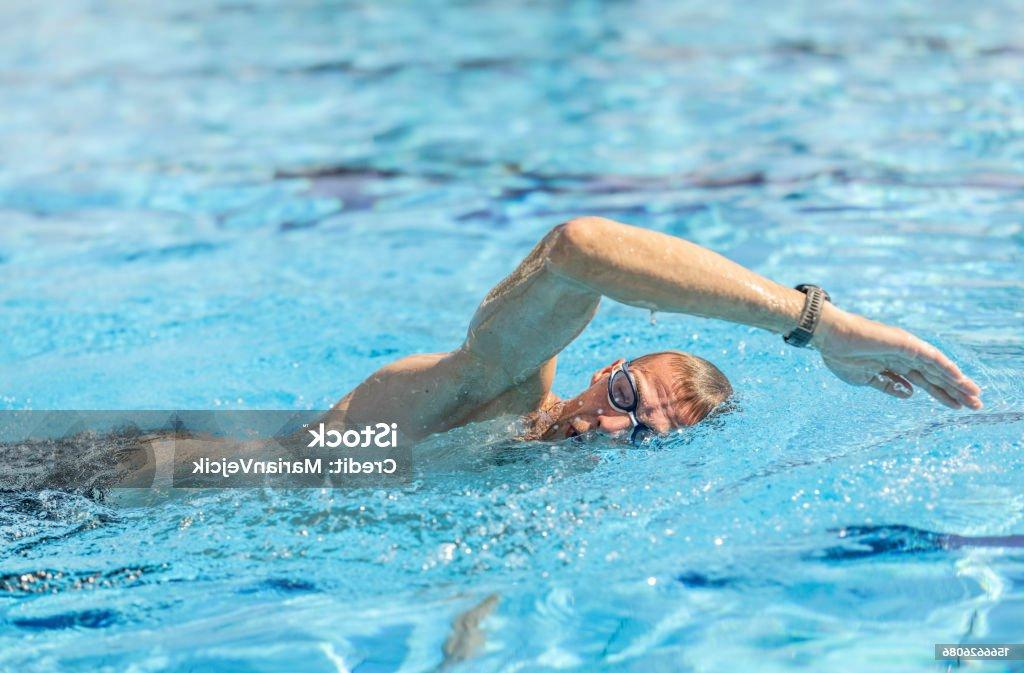Swimming: (199, 126, 986, 604)
